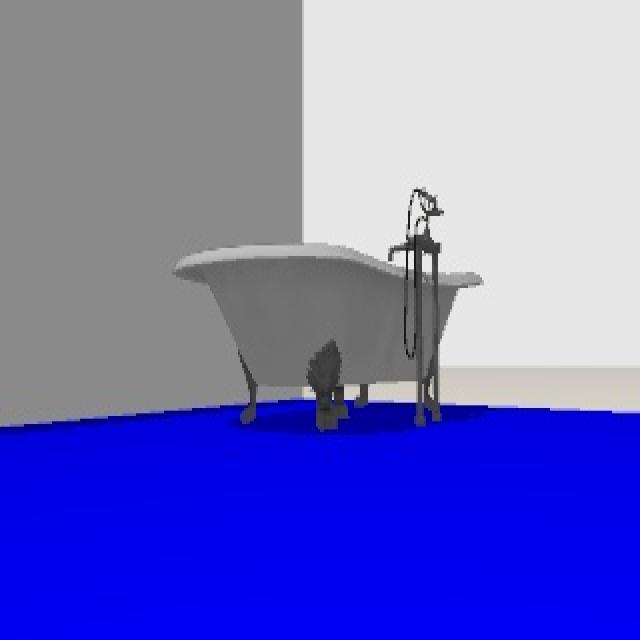bathtub: (173, 185, 485, 428)
